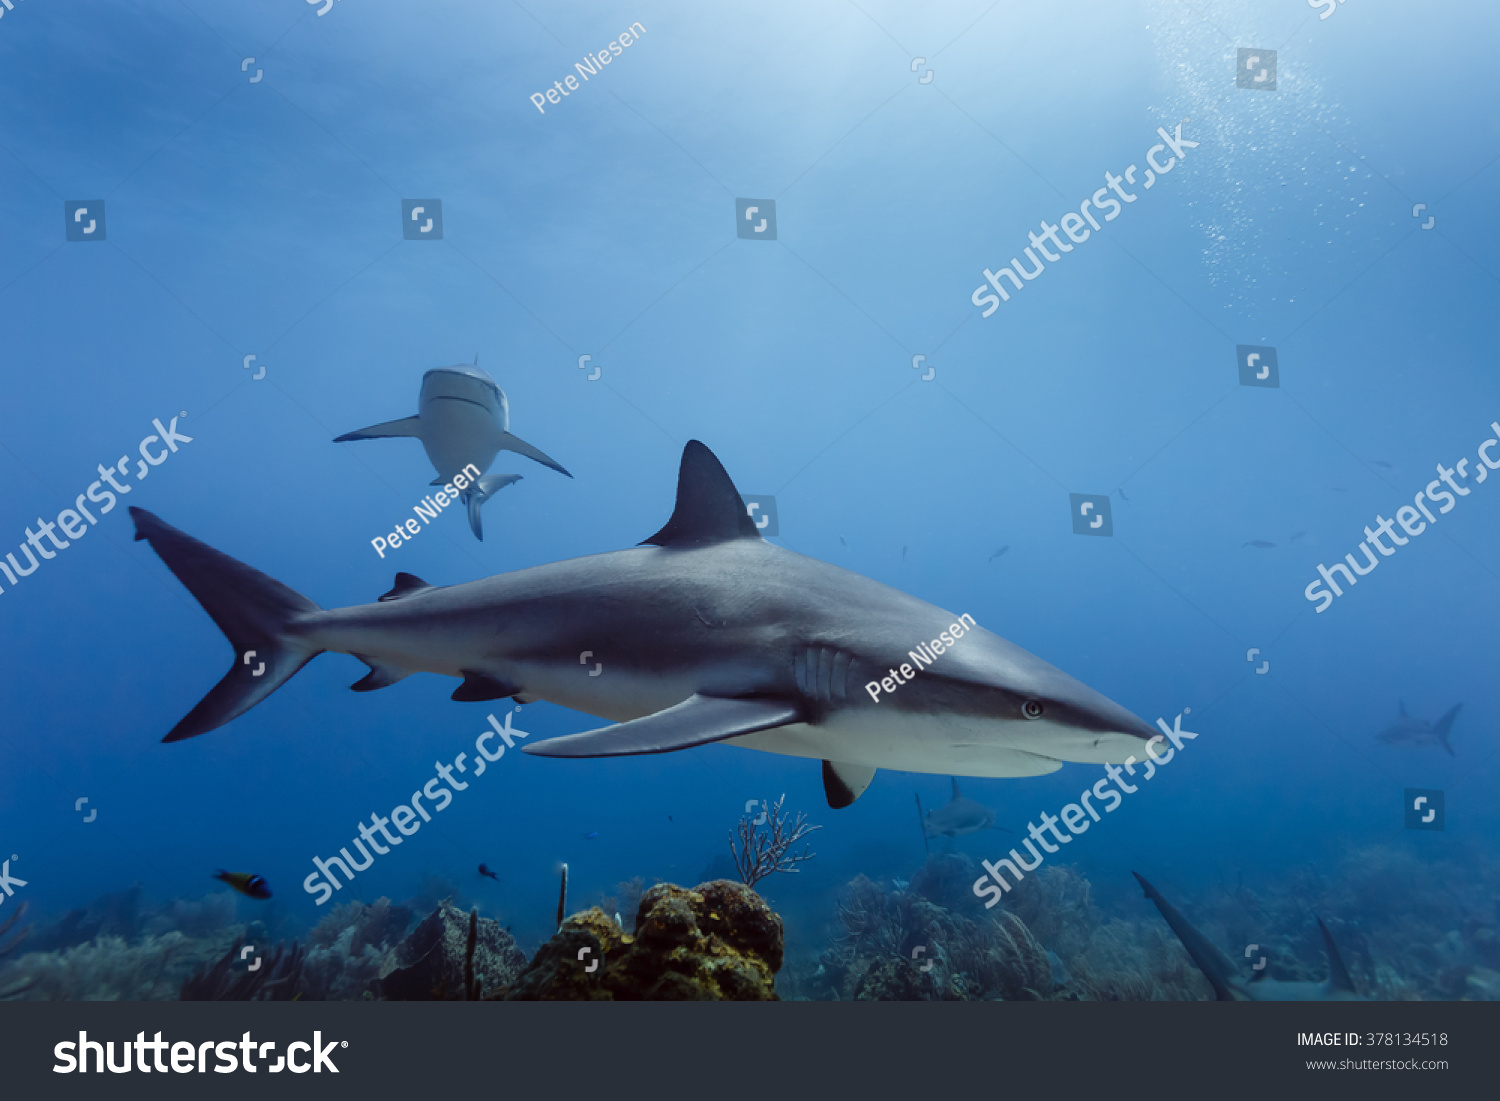Carcharhinus_amblyrhynchos: (126, 465, 1188, 830), (326, 343, 609, 542)
